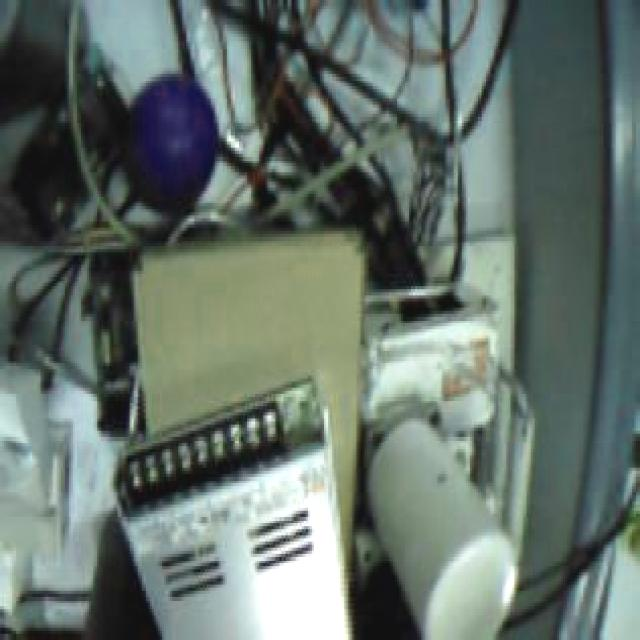BallPurple: (125, 72, 217, 213)
